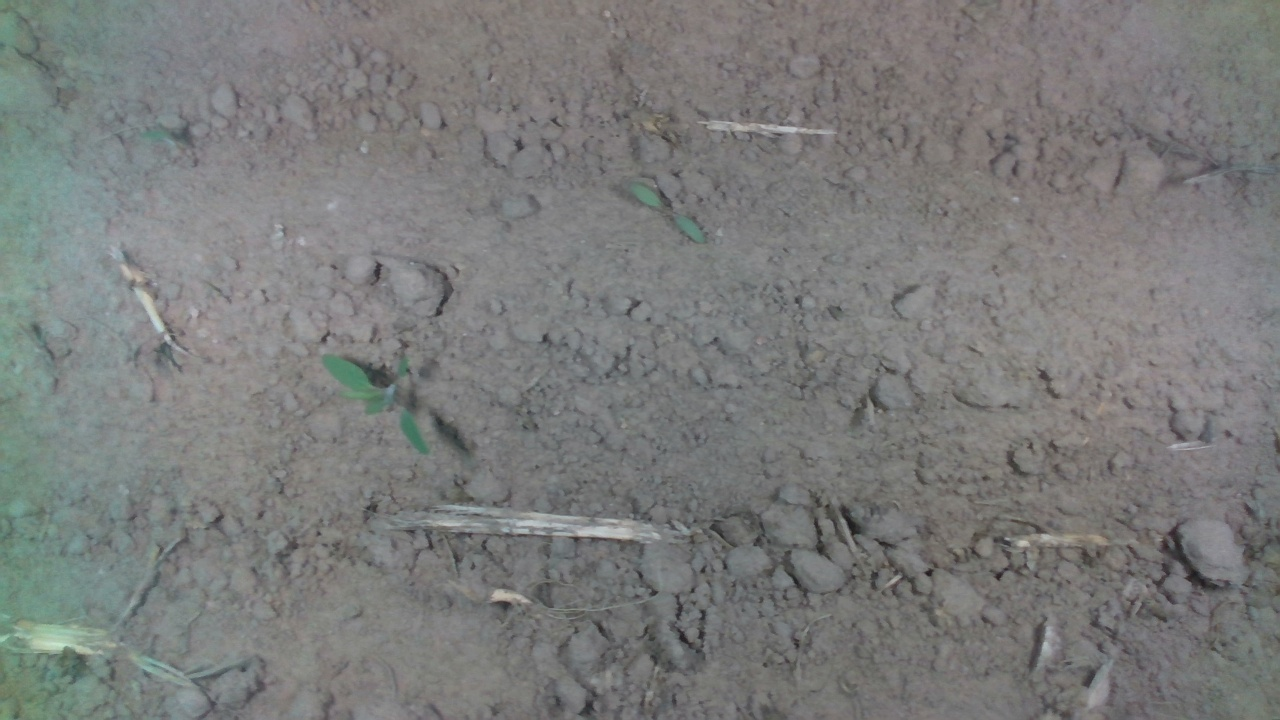weed: (320, 352, 430, 457), (628, 182, 707, 246)
